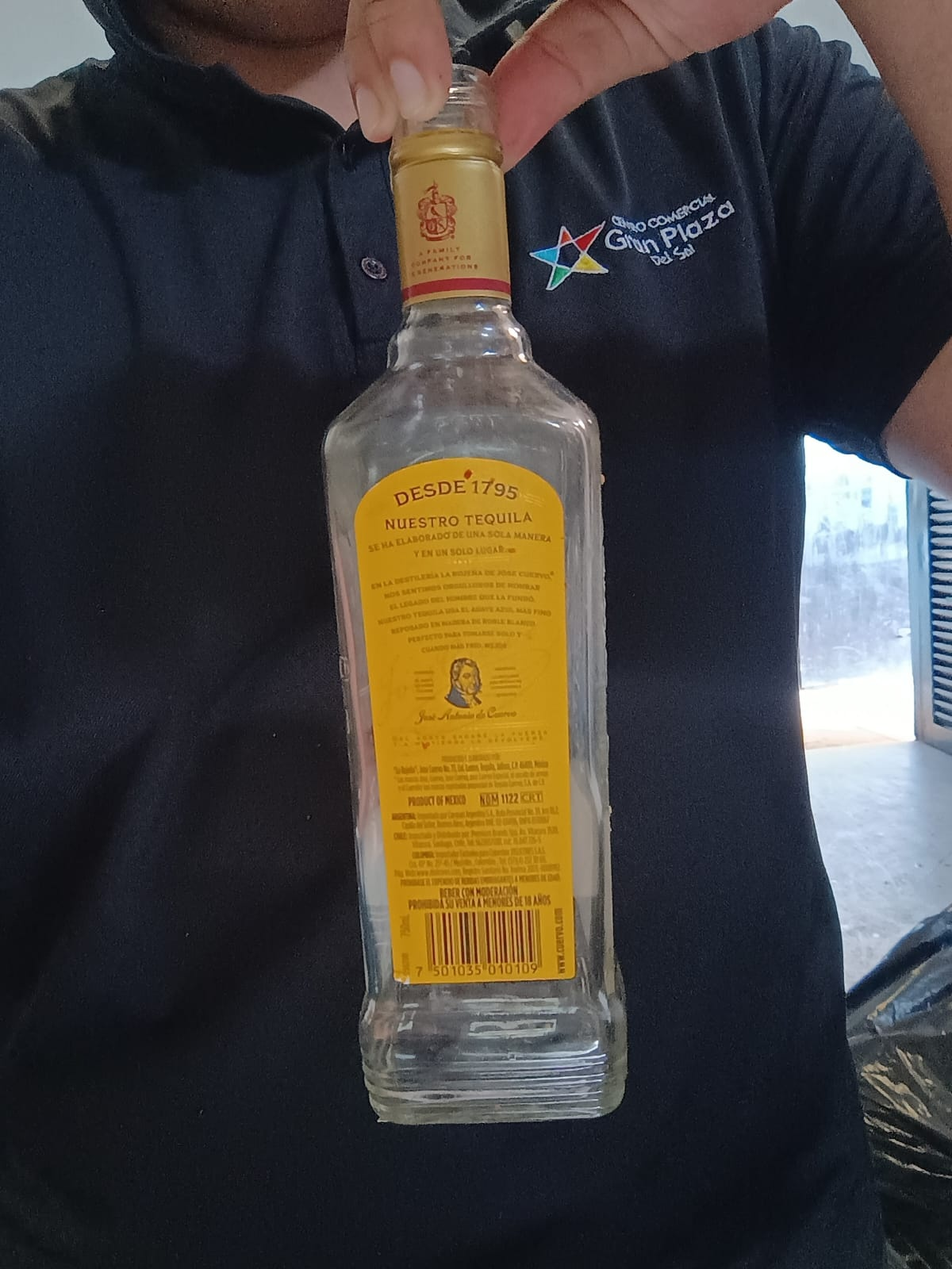Vidrio: (322, 67, 627, 1126)
